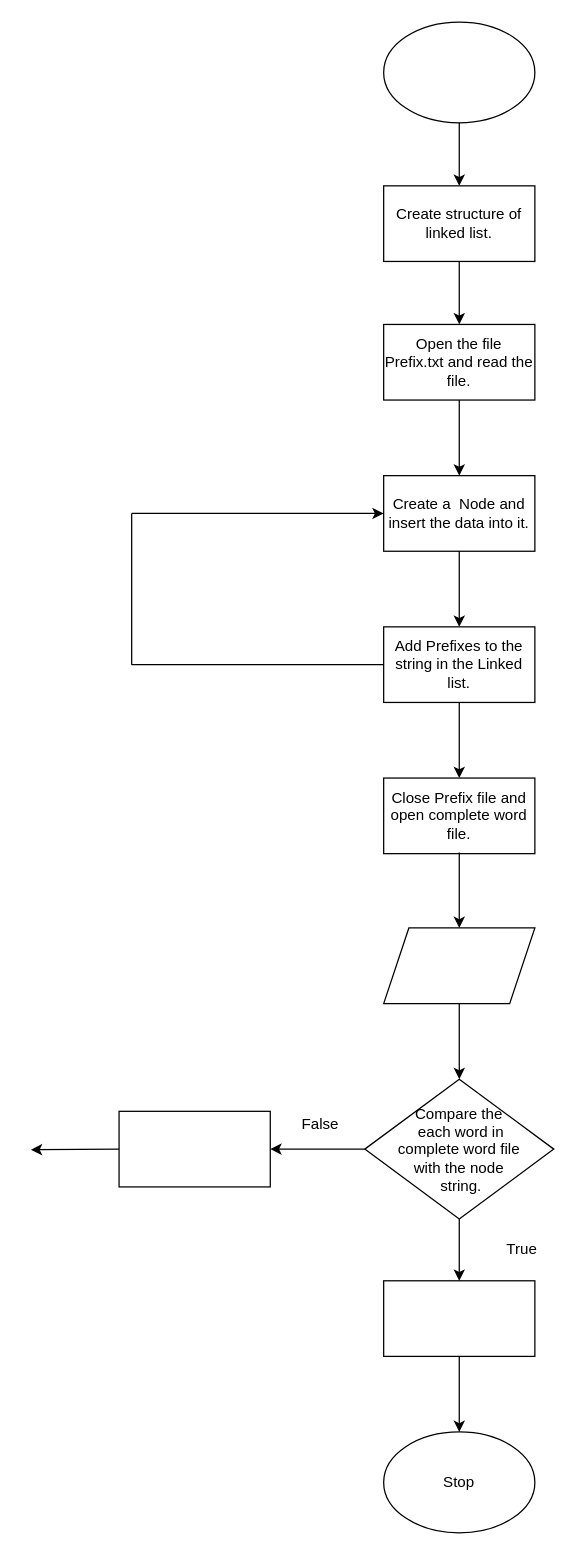
The diagram is 582 pixels wide and 1555 high, and some of its shapes have lost their labels. The centre of each missing label's shape, as x and y in pixels:
Call Add Suffix Function.: pixel 194 1148
Print the String and close the file.: pixel 458 1318
Read the data.: pixel 458 965
Start: pixel 458 72
